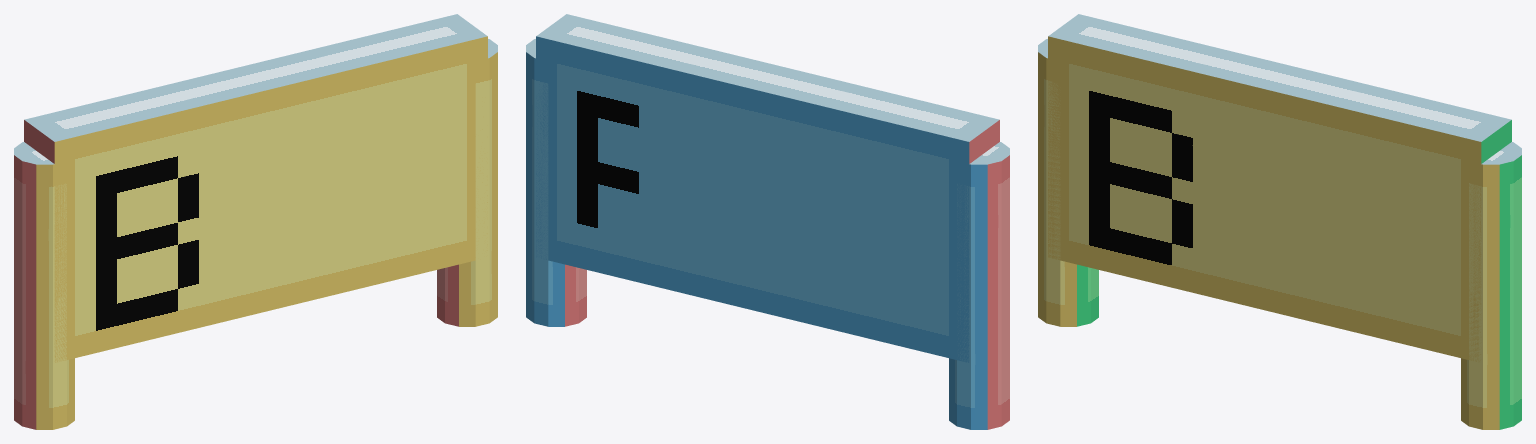
File: znak.gltf
3 views of the same model, side by side, from view 1: azimuth 30°, elevation 25°; view 2: azimuth 150°, elevation 25°; view 3: azimuth 330°, elevation 25° (orthographic).
Visible parts, largest first — view 1: cylinder; view 2: cylinder; view 3: cylinder.
Part boxes in pixels (<box>): cylinder: <box>14,14,497,429</box>; cylinder: <box>526,14,1009,429</box>; cylinder: <box>1038,14,1521,429</box>.
Bounding box in the file's own units: 1.41 × 0.8125 × 0.1562.
Materials: 1 (1 with a texture image).
